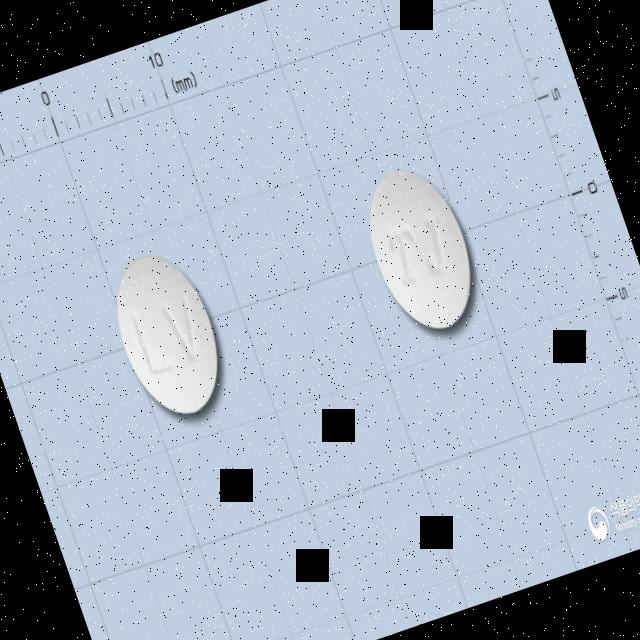TaeJoon Levofloxacin Tab: (350, 156, 490, 342), (97, 241, 237, 426)
